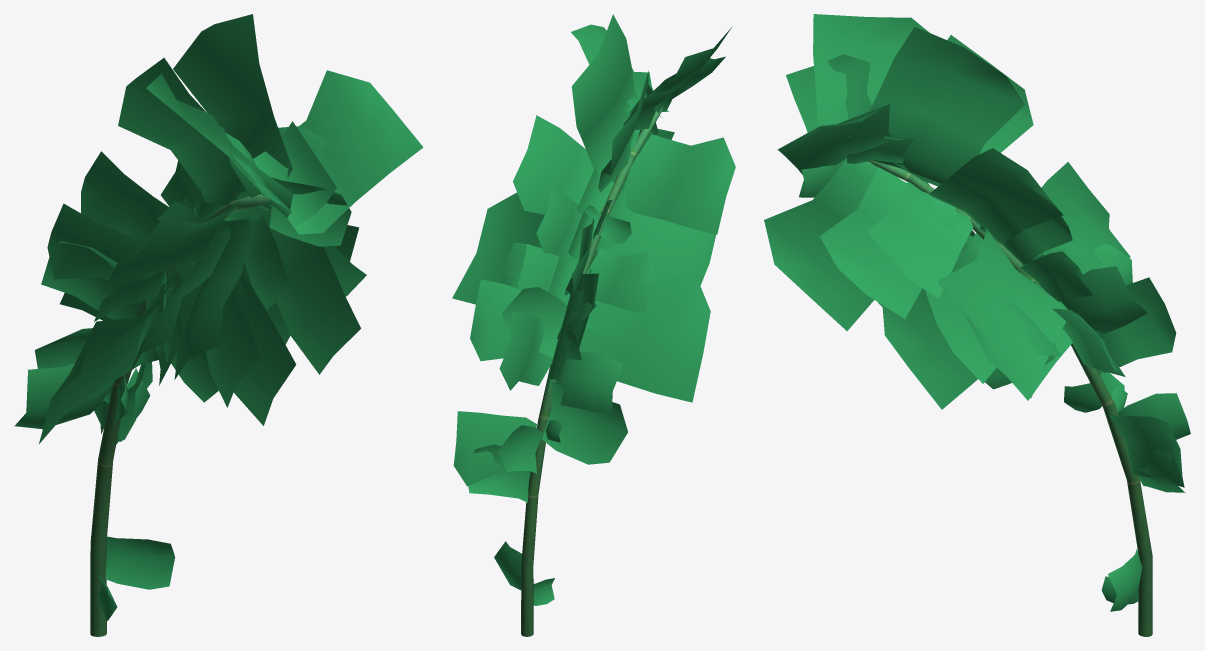
The model's file is BAMBU CURVADO LATERAL.fbx.
3 views of the same model, side by side, from view 1: azimuth 30°, elevation 25°; view 2: azimuth 150°, elevation 25°; view 3: azimuth 270°, elevation 25° (orthographic). The views are drawn at different scales.
Parts seen in each view (by area): view 1: Cylinder.002; view 2: Cylinder.002; view 3: Cylinder.002.
Part boxes in pixels (bbox=[...]): Cylinder.002: bbox=[14, 14, 423, 636]; Cylinder.002: bbox=[452, 14, 735, 636]; Cylinder.002: bbox=[764, 14, 1190, 636].
Size of the model in its own units: 296 by 662 by 415.
